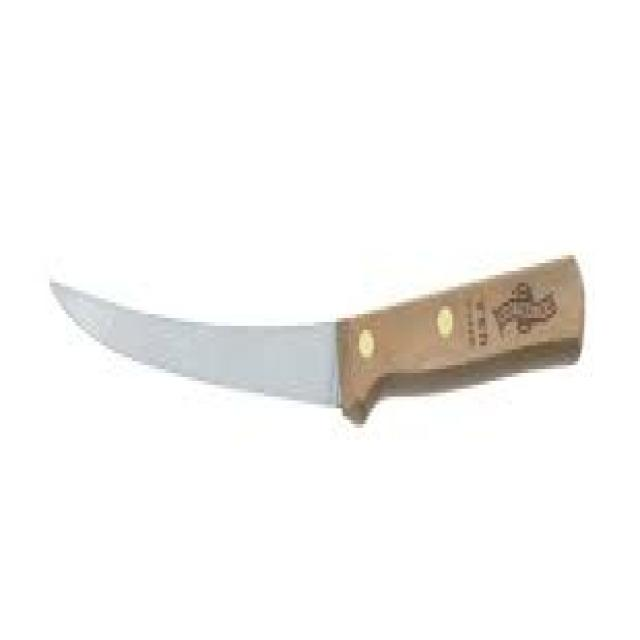Knife: (50, 251, 586, 424)
